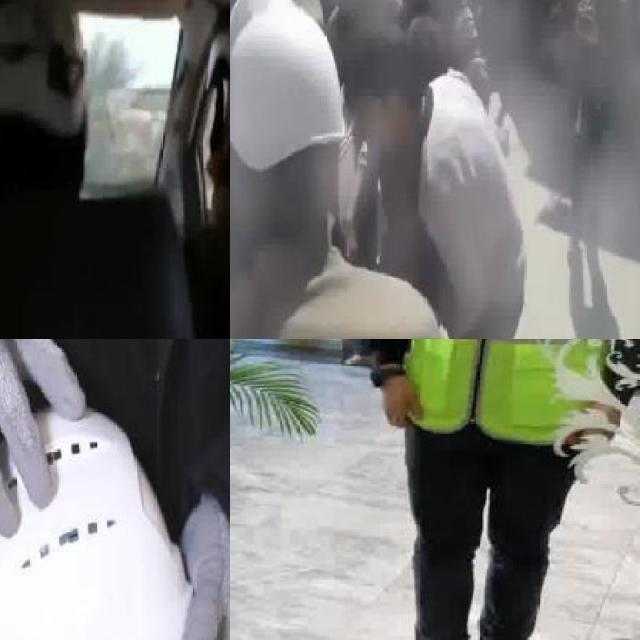apron: (0, 339, 88, 548), (149, 488, 230, 640)
